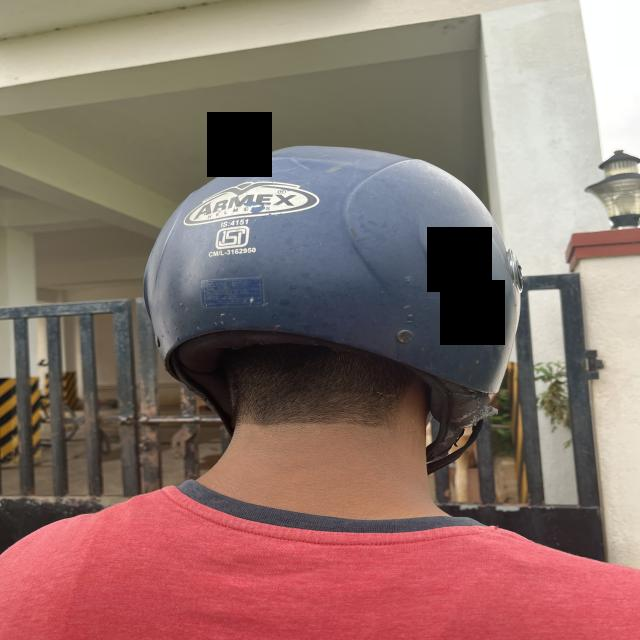Helmet: (145, 146, 522, 472)
